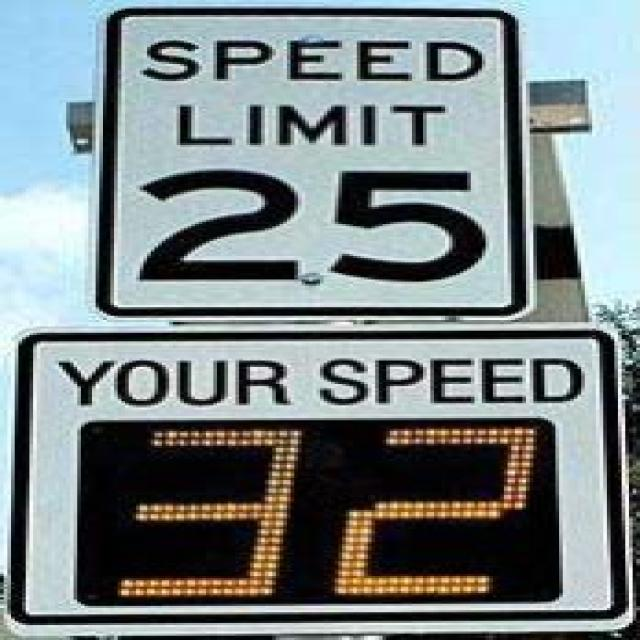Speed Limit Signs: (92, 4, 533, 316)
